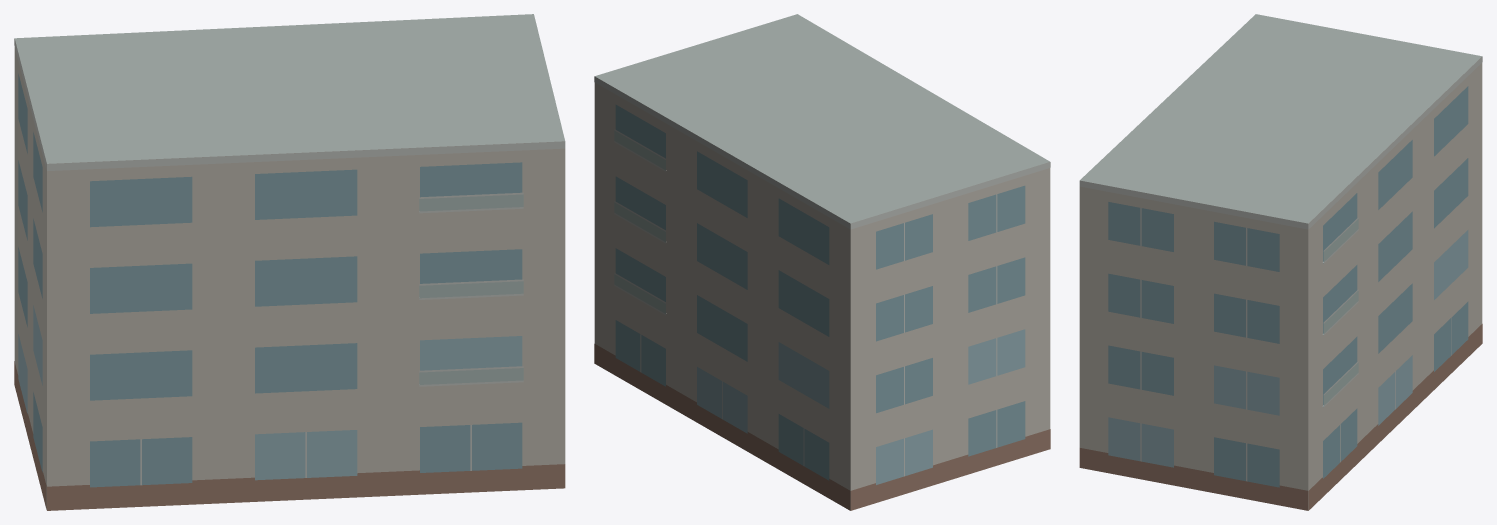
The model's file is survey-upis-32964361.glb.
The picture shows the model from 3 angles, left to right: view 1: azimuth 30°, elevation 25°; view 2: azimuth 150°, elevation 25°; view 3: azimuth 270°, elevation 25°; orthographic projection. The views are drawn at different scales.
Visible parts, largest first — view 1: survey-upis-32964361.tmp; view 2: survey-upis-32964361.tmp; view 3: survey-upis-32964361.tmp.
Boxes of the visible parts, box(x1,y1,x2,y2) form: survey-upis-32964361.tmp: box(14, 14, 565, 510); survey-upis-32964361.tmp: box(594, 14, 1050, 510); survey-upis-32964361.tmp: box(1079, 14, 1482, 510).
Size of the model in its own units: 18.16 by 11.6 by 14.75.
